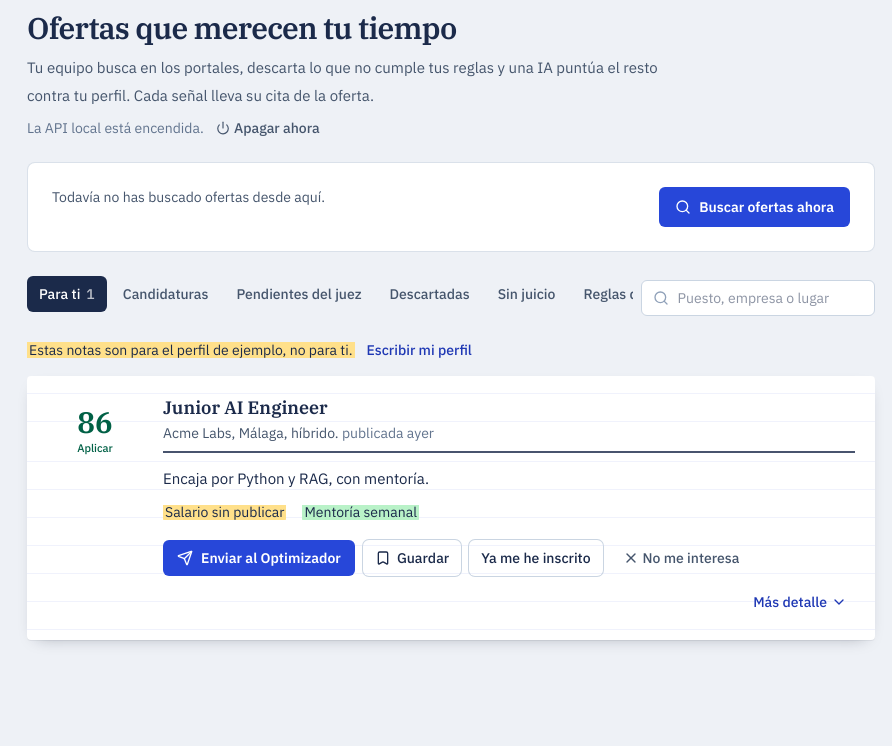
it: Tu perfil en el Buscador › "Para ti" avisa si las notas son del perfil de ejemplo y lleva a escribir el tuyo
This screenshot has width=892, height=746.
Expected: the text "Estas notas son para el perfil de ejemplo, no para ti." is shown, [27, 340, 354, 360]
Click the button "Escribir mi perfil" at (419, 350), box [366, 340, 472, 360]
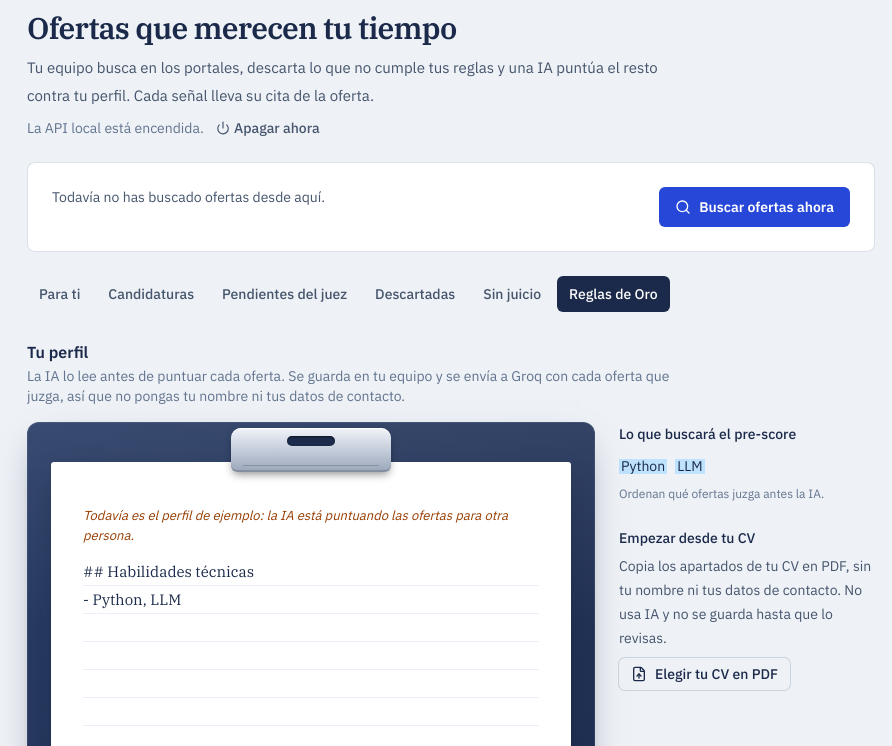
Expected: the heading "Tu perfil" is shown, [27, 342, 88, 362]
Expected: the text "Todavía es el perfil de ejemplo" is shown, [83, 507, 508, 544]
